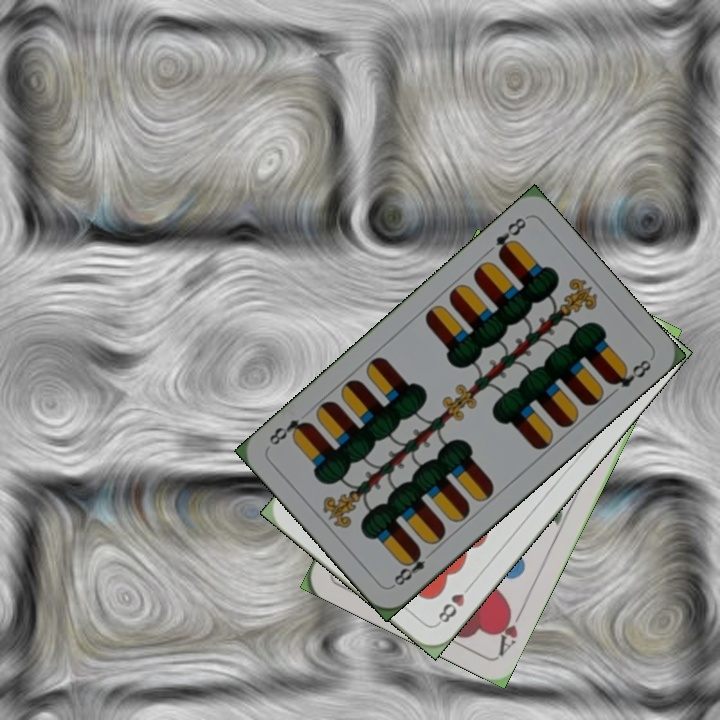E8: (388, 545, 429, 590), (491, 213, 529, 261)
H8: (433, 579, 476, 628)
HA: (492, 600, 527, 658)
